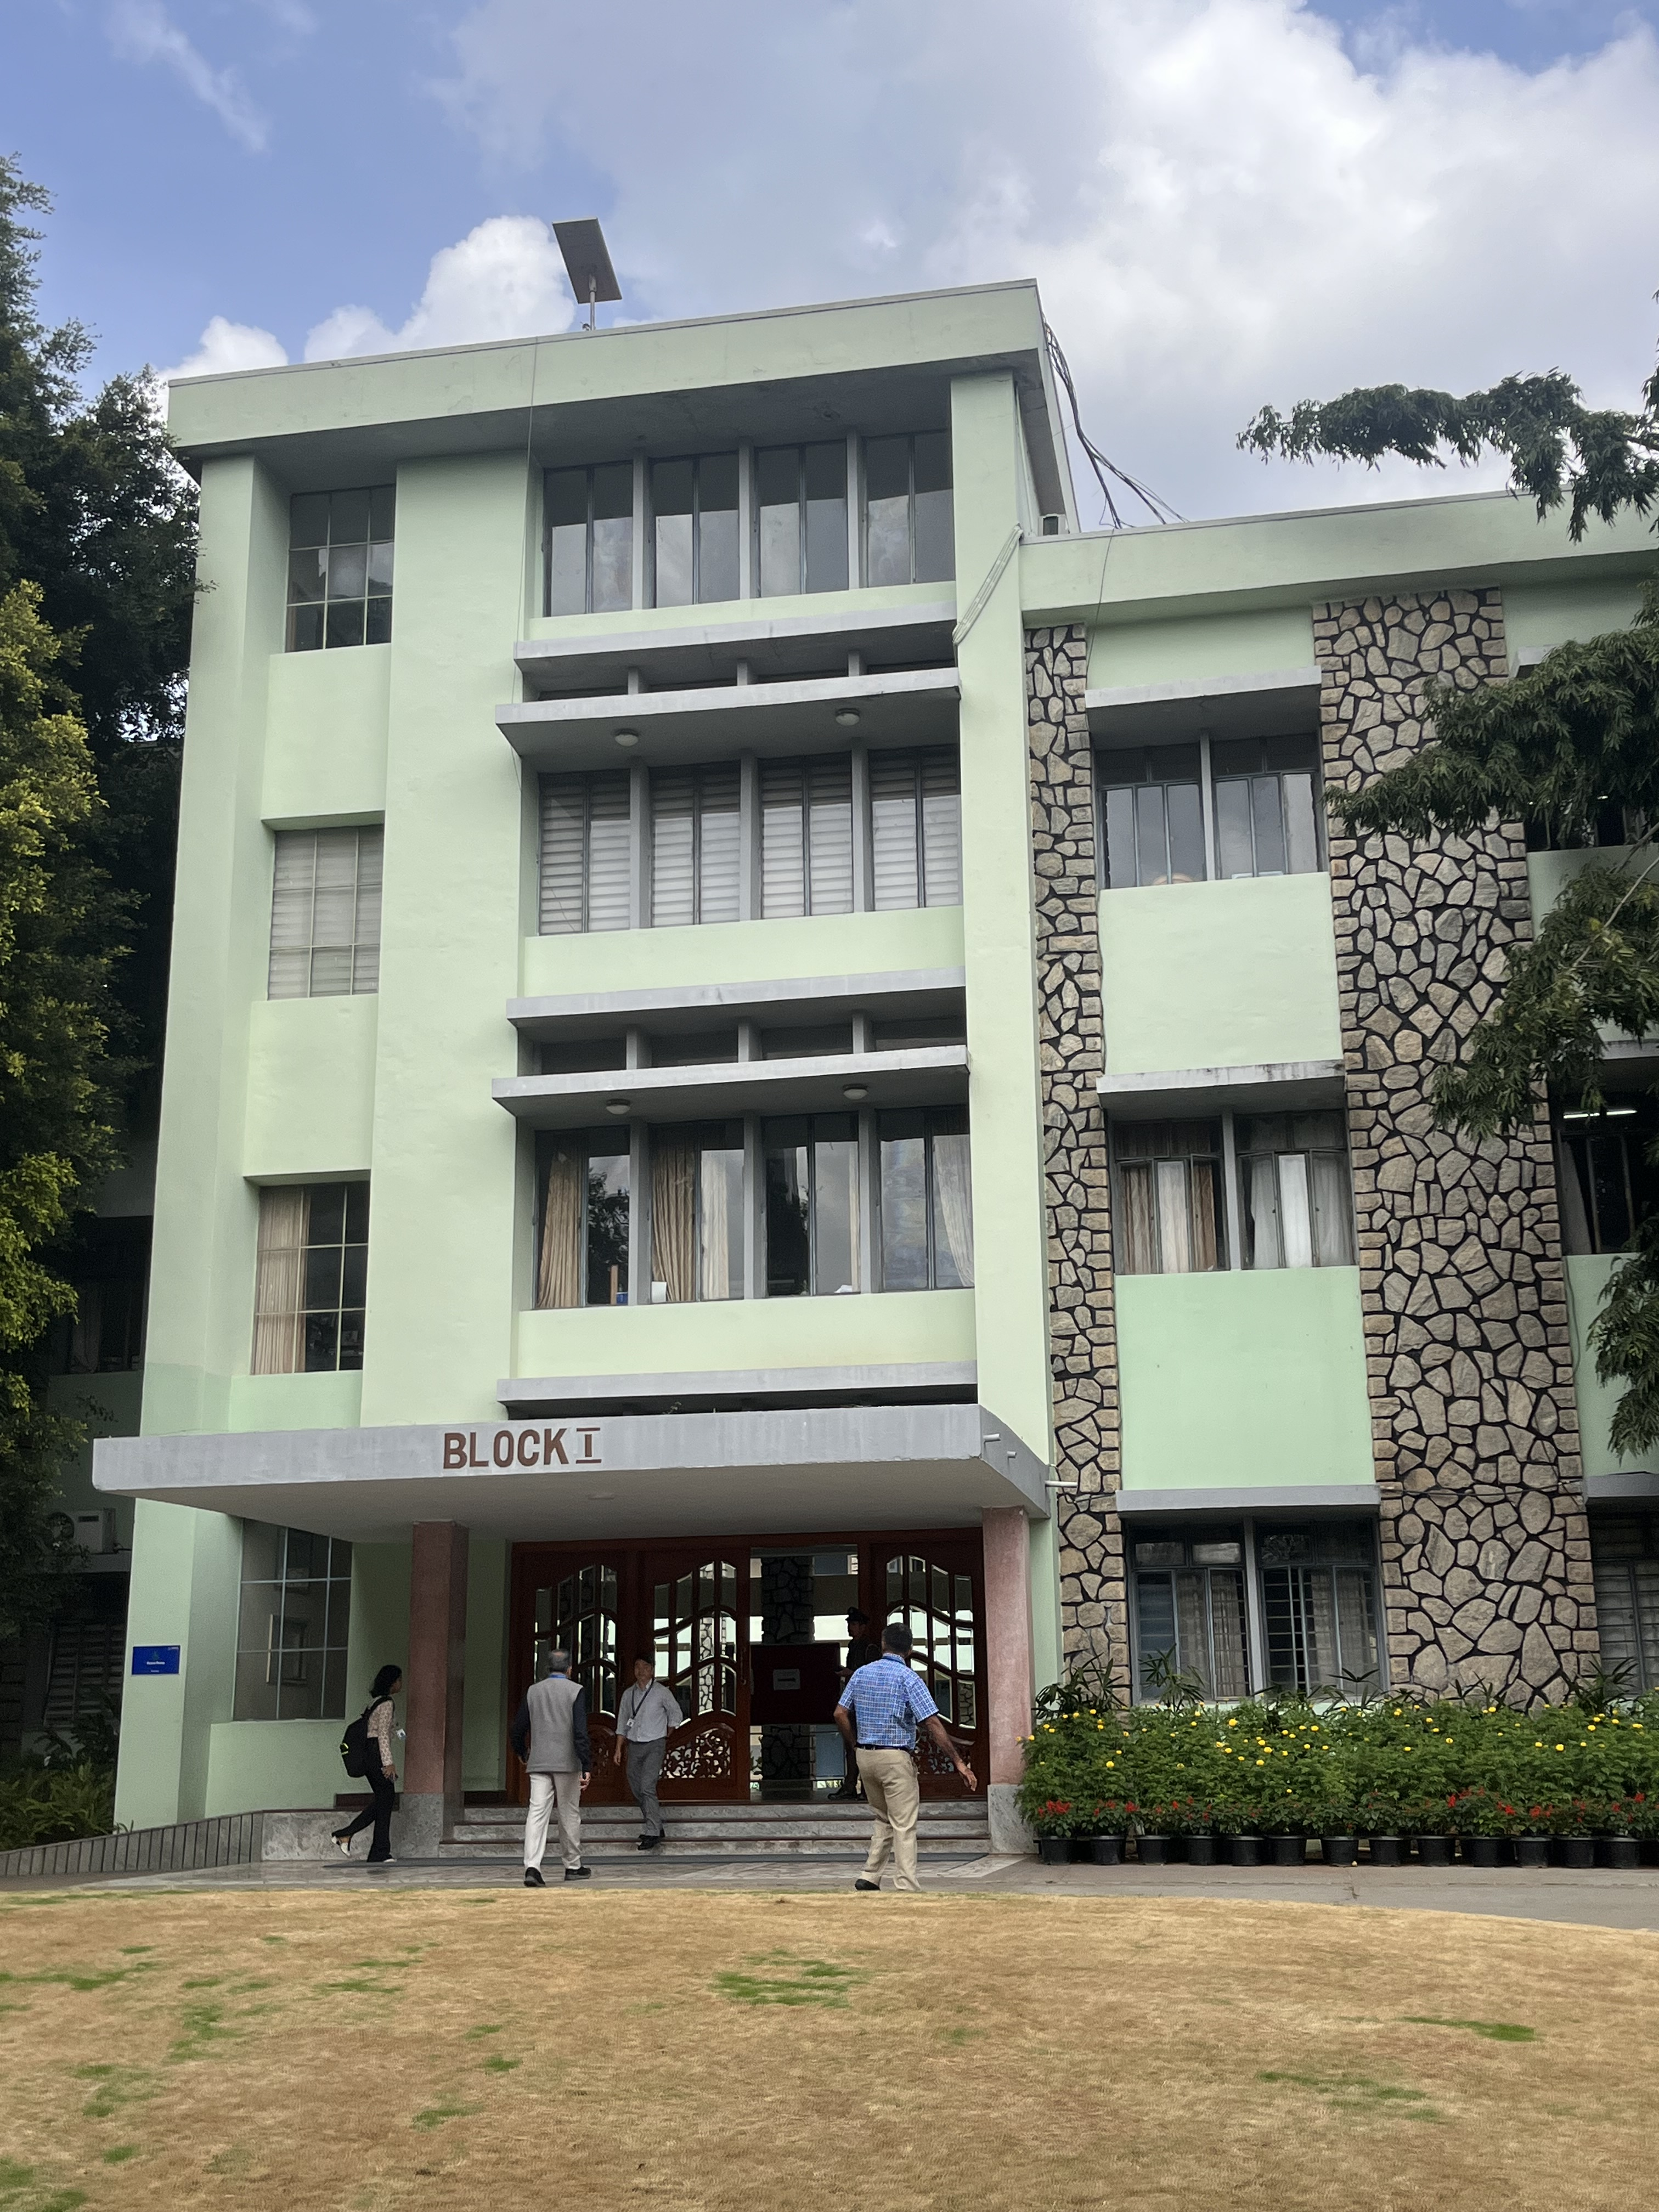Block 1: (98, 293, 1598, 1810)
